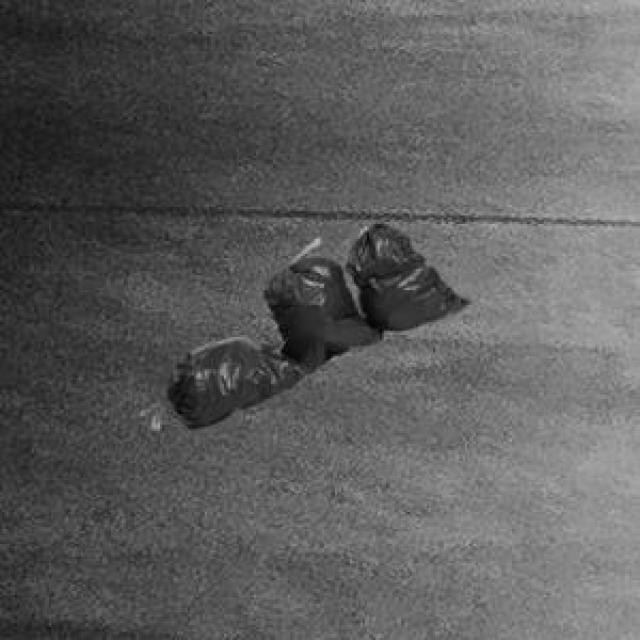miscellaneous trash: (162, 220, 467, 425)
